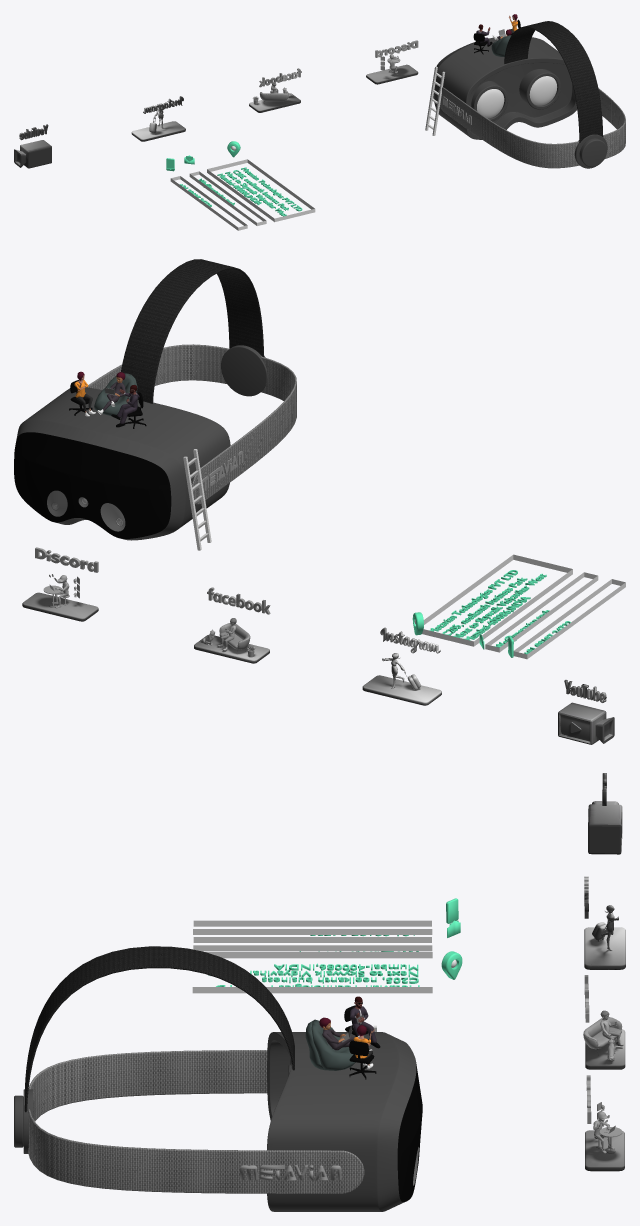
Rendered from contact_models_with_vr_headset_with_animation_and_optimisation_2_v02.glb.
The picture shows the model from 3 angles, top to bottom: view 1: azimuth 30°, elevation 25°; view 2: azimuth 150°, elevation 25°; view 3: azimuth 270°, elevation 25°; orthographic projection. The views are drawn at different scales.
Parts seen in each view (by area): view 1: Cube.009, Cube.012, Cube.013, Cube.014, address_letters, Facebook, Youtube, Discord, Instagram, Cube.015, highlighter_address.001, highlighter_address.002 (+1 smaller); view 2: Cube.009, Cube.013, Cube.012, Cube.010, Cube.001, Youtube, Facebook, Discord, Instagram, address_letters, Cube.015, ojo_der.001 (+4 smaller); view 3: Cube.012, Cube.009, Cube.013, address_letters, Facebook, Instagram, Discord, Youtube, ojo_der.001, highlighter_phone.001, highlighter_email.002, highlighter_address.002 (+6 smaller).
Boxes of the visible parts, x1,y1,x2,y2 form: Cube.009: (433, 37, 607, 168); Cube.012: (437, 87, 625, 168); Cube.013: (504, 21, 603, 142); Cube.014: (477, 76, 557, 118); address_letters: (217, 167, 302, 216); Facebook: (249, 68, 301, 112); Youtube: (14, 124, 51, 168); Discord: (366, 40, 418, 84); Instagram: (131, 96, 185, 141); Cube.015: (425, 66, 444, 135); highlighter_address.001: (207, 169, 315, 222); highlighter_address.002: (207, 159, 314, 209); Cube.009: (16, 345, 267, 540); Cube.013: (121, 259, 263, 403); Cube.012: (87, 344, 296, 504); Cube.010: (14, 452, 171, 538); Cube.001: (14, 432, 170, 489); Youtube: (558, 680, 614, 744); Facebook: (194, 587, 270, 663); Discord: (22, 547, 98, 621); Instagram: (362, 627, 441, 705); address_letters: (429, 570, 546, 640); Cube.015: (183, 449, 211, 550); ojo_der.001: (94, 372, 137, 416); Cube.012: (28, 1050, 364, 1193); Cube.009: (14, 1032, 416, 1211); Cube.013: (24, 946, 294, 1112); address_letters: (208, 963, 419, 986); Facebook: (583, 975, 625, 1069); Instagram: (584, 876, 625, 969); Discord: (585, 1075, 624, 1171); Youtube: (588, 773, 622, 854); ojo_der.001: (305, 1017, 372, 1070); highlighter_phone.001: (193, 920, 431, 926); highlighter_email.002: (193, 945, 432, 951); highlighter_address.002: (205, 952, 432, 958).
Size of what is drawn, in the model's own units: 175 by 47.76 by 111.
Materials: 47 (6 with a texture image).
